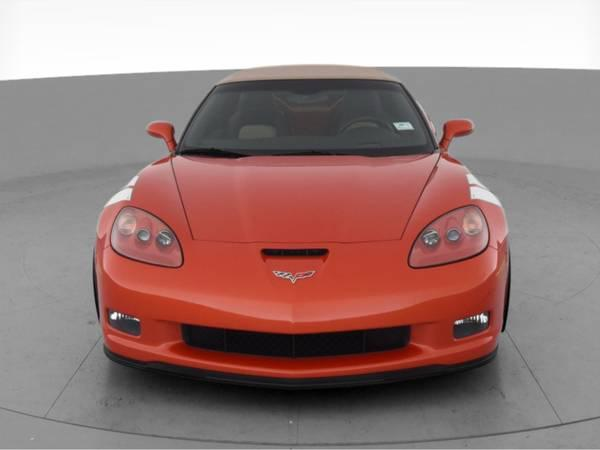Front_Bumper: (93, 237, 507, 374)
Front_Windshield: (177, 80, 438, 159)
Grille: (198, 324, 436, 385)
Hood: (95, 144, 505, 249)
Left_Headlight: (411, 203, 491, 268)
Left_Mirror: (439, 120, 476, 156)
Right_Headlight: (109, 207, 182, 271)
Right_Mirror: (147, 120, 179, 151)
